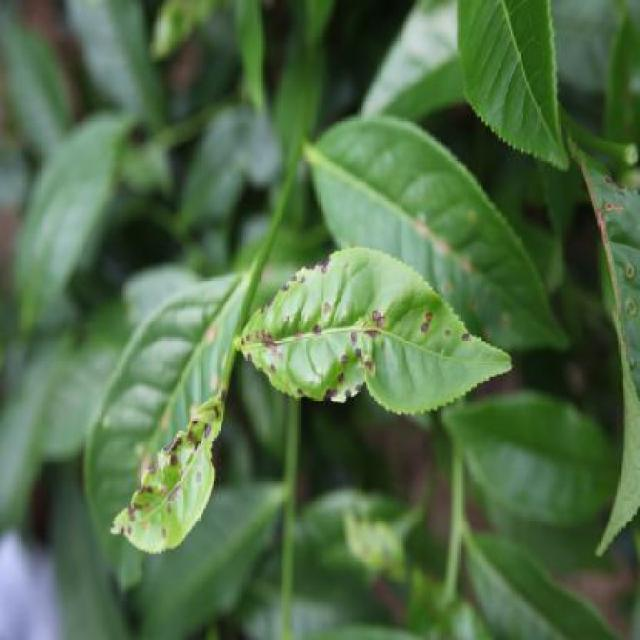Tea Mosquito bug infested leaf: (237, 243, 503, 402), (111, 379, 234, 563)
